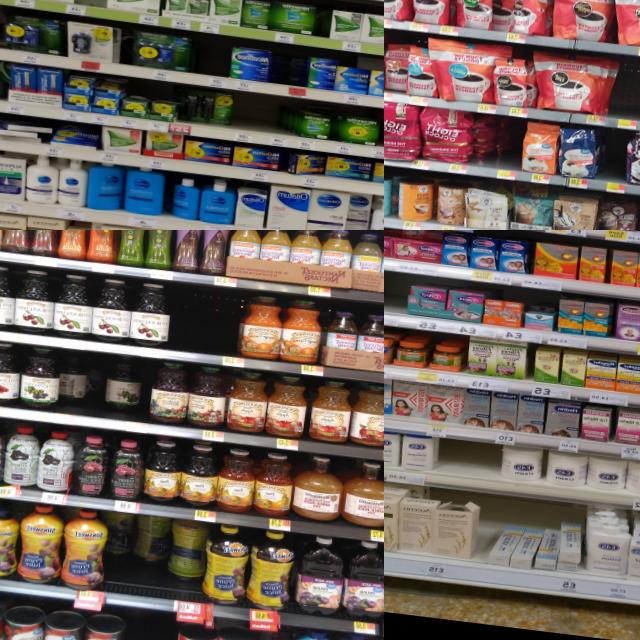100- O.O.S: (168, 289, 241, 365), (438, 438, 501, 492), (598, 129, 630, 194), (613, 61, 640, 130), (496, 116, 524, 182), (197, 42, 230, 88), (118, 615, 177, 640), (230, 94, 260, 142), (256, 96, 284, 146), (384, 274, 407, 326), (266, 53, 294, 95)
